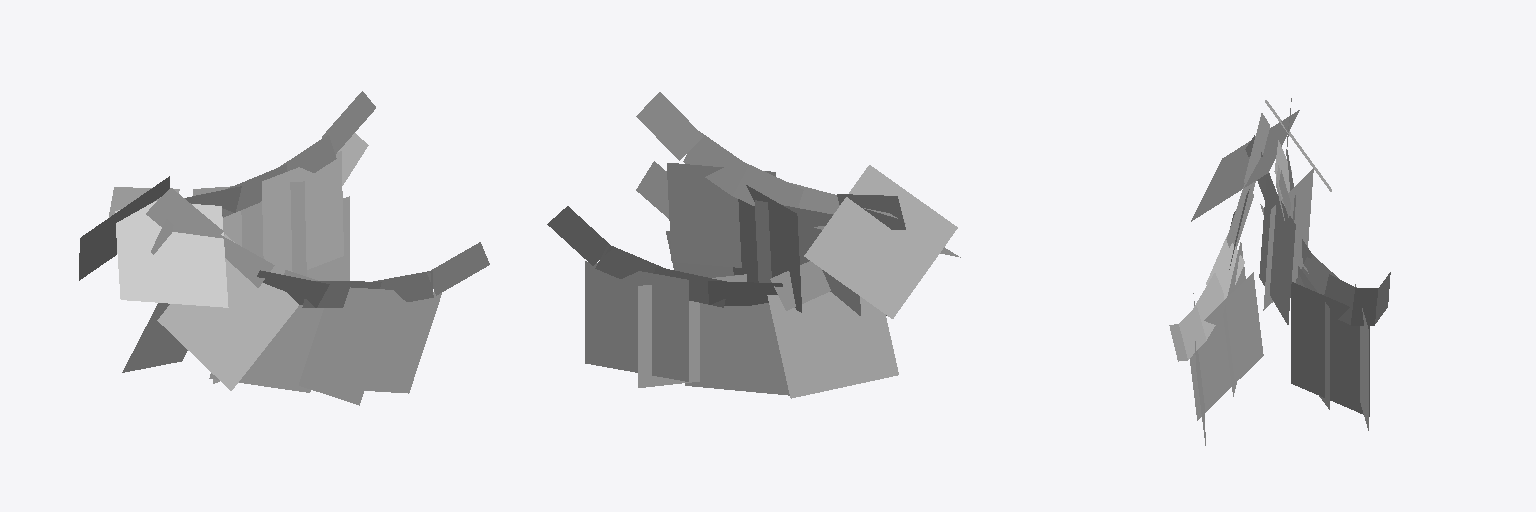
File: spruce_branch.obj
3 renders of one model, left to right at view 1: azimuth 30°, elevation 25°; view 2: azimuth 150°, elevation 25°; view 3: azimuth 270°, elevation 25°, orthographic.
Parts seen in each view (by area): view 1: cube.014, cube.000, cube.020, cube.010, cube.021, cube.019, cube.009, cube.013, cube.003, cube.001, cube.017, cube.007 (+10 smaller); view 2: cube.013, cube.003, cube.027, cube.028, cube.010, cube.009, cube.011, cube.026, cube.007, cube.006, cube.024, cube.008 (+8 smaller); view 3: cube.026, cube.019, cube.010, cube.014, cube.009, cube.015, cube.023, cube.018, cube.027, cube.016, cube.025, cube.022 (+4 smaller).
Boxes of the visible parts, x1=… form: cube.014: x1=115, y1=201, x2=228, y2=307; cube.000: x1=157, y1=234, x2=298, y2=390; cube.020: x1=317, y1=287, x2=441, y2=393; cube.010: x1=262, y1=151, x2=343, y2=274; cube.021: x1=209, y1=305, x2=323, y2=392; cube.019: x1=284, y1=270, x2=392, y2=405; cube.009: x1=193, y1=181, x2=306, y2=276; cube.013: x1=79, y1=176, x2=169, y2=280; cube.003: x1=122, y1=303, x2=187, y2=372; cube.001: x1=146, y1=188, x2=223, y2=237; cube.017: x1=427, y1=242, x2=489, y2=295; cube.007: x1=322, y1=91, x2=375, y2=154; cube.013: x1=804, y1=165, x2=957, y2=318; cube.003: x1=767, y1=292, x2=898, y2=398; cube.027: x1=585, y1=261, x2=688, y2=381; cube.028: x1=685, y1=303, x2=789, y2=395; cube.010: x1=667, y1=163, x2=775, y2=267; cube.009: x1=733, y1=185, x2=801, y2=312; cube.011: x1=755, y1=200, x2=860, y2=315; cube.026: x1=638, y1=274, x2=746, y2=387; cube.007: x1=636, y1=92, x2=703, y2=160; cube.006: x1=683, y1=131, x2=748, y2=195; cube.024: x1=547, y1=206, x2=612, y2=265; cube.008: x1=732, y1=162, x2=803, y2=207; cube.026: x1=1291, y1=282, x2=1369, y2=416; cube.019: x1=1190, y1=272, x2=1263, y2=420; cube.010: x1=1259, y1=177, x2=1295, y2=324; cube.014: x1=1191, y1=110, x2=1299, y2=221; cube.009: x1=1263, y1=168, x2=1313, y2=310; cube.015: x1=1206, y1=235, x2=1244, y2=299; cube.023: x1=1351, y1=288, x2=1378, y2=325; cube.018: x1=1193, y1=273, x2=1223, y2=340; cube.027: x1=1355, y1=284, x2=1368, y2=430; cube.016: x1=1179, y1=306, x2=1205, y2=359; cube.025: x1=1324, y1=274, x2=1355, y2=324; cube.022: x1=1296, y1=254, x2=1338, y2=294.
Size of the model in its own units: 2.11 by 1.53 by 1.1.